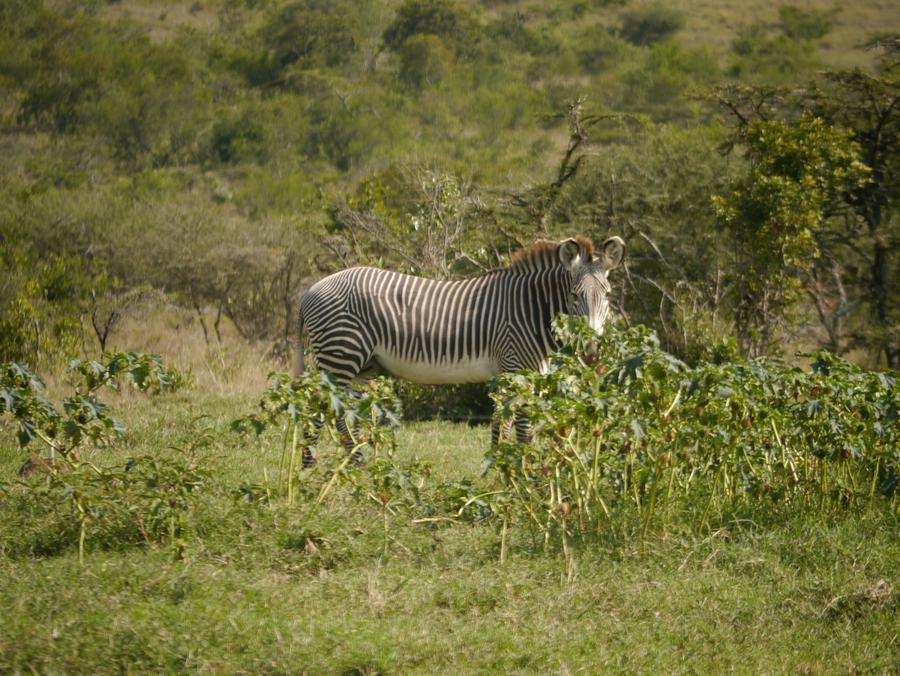zebra_grevys: (298, 251, 542, 385)
